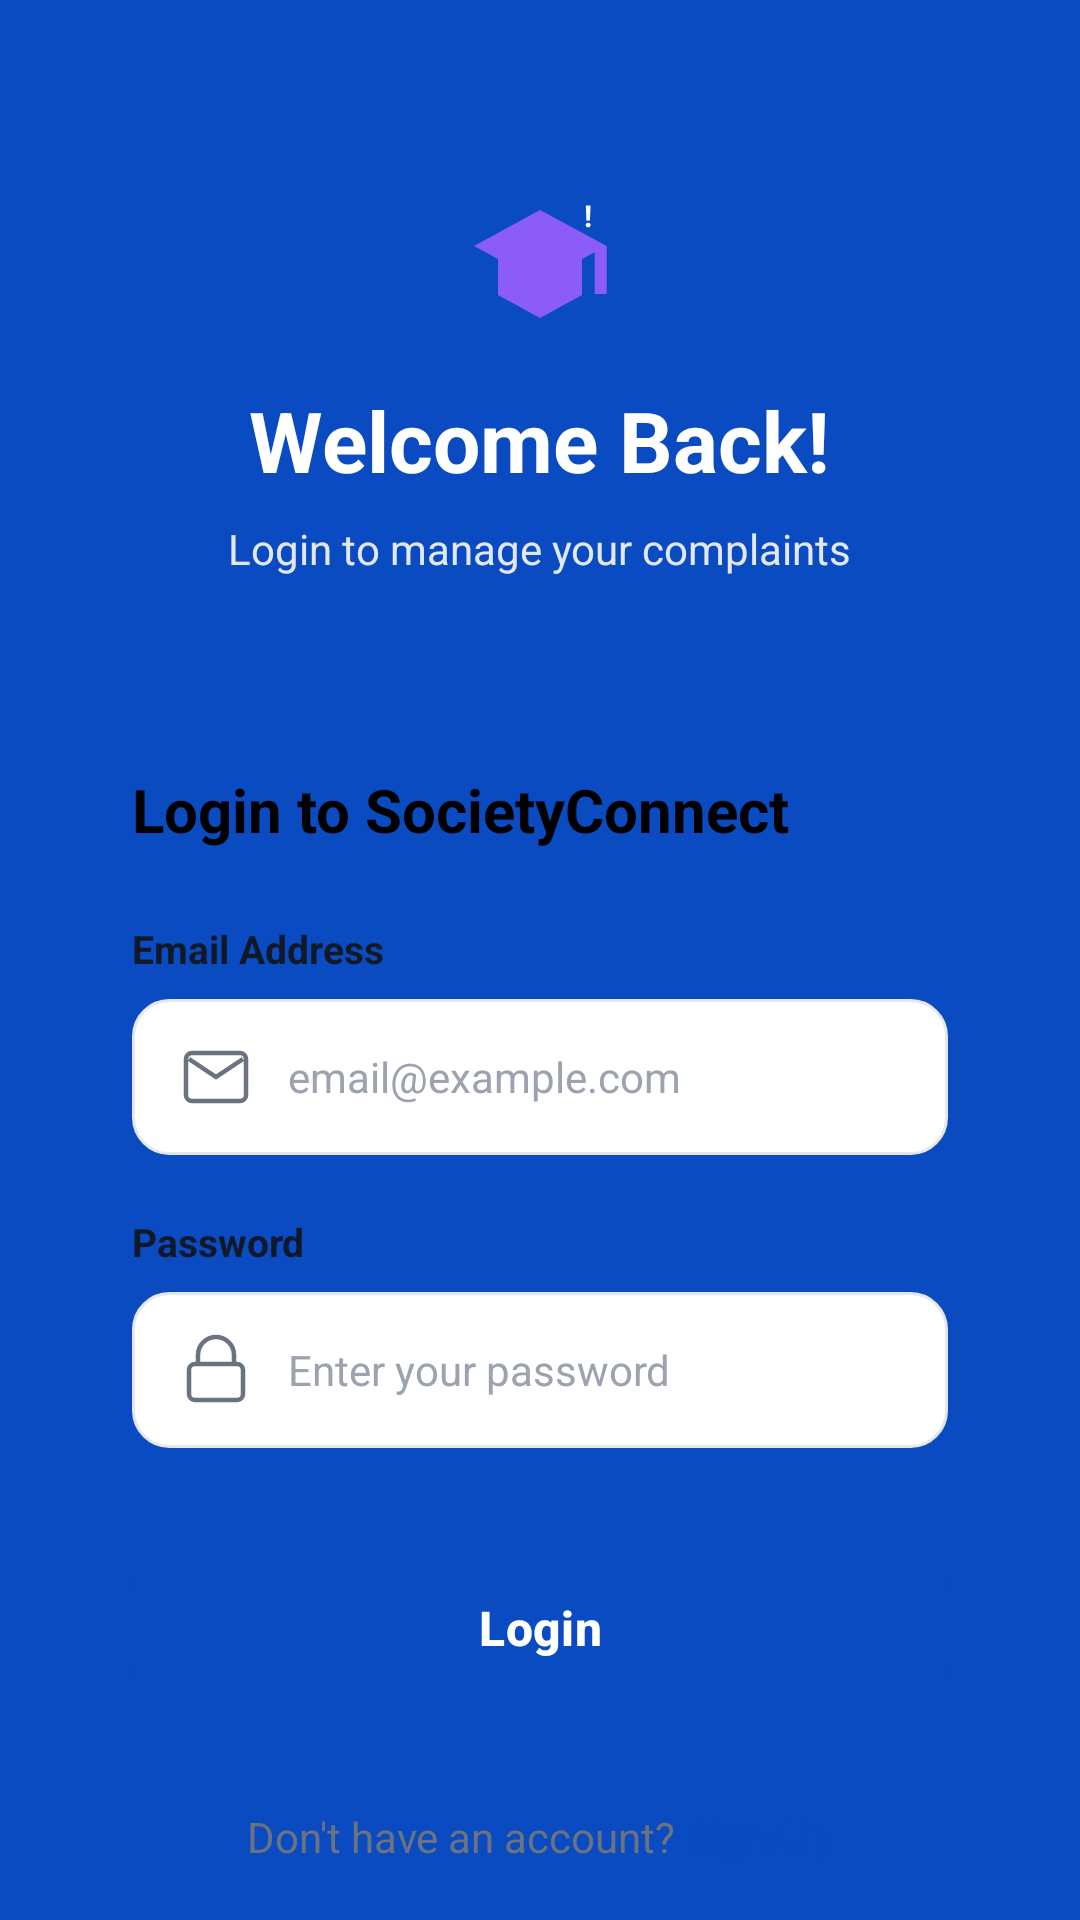

Named icons in this screenshot (1080*1920) and their centers, point (x, y):
school: point (540, 261)
